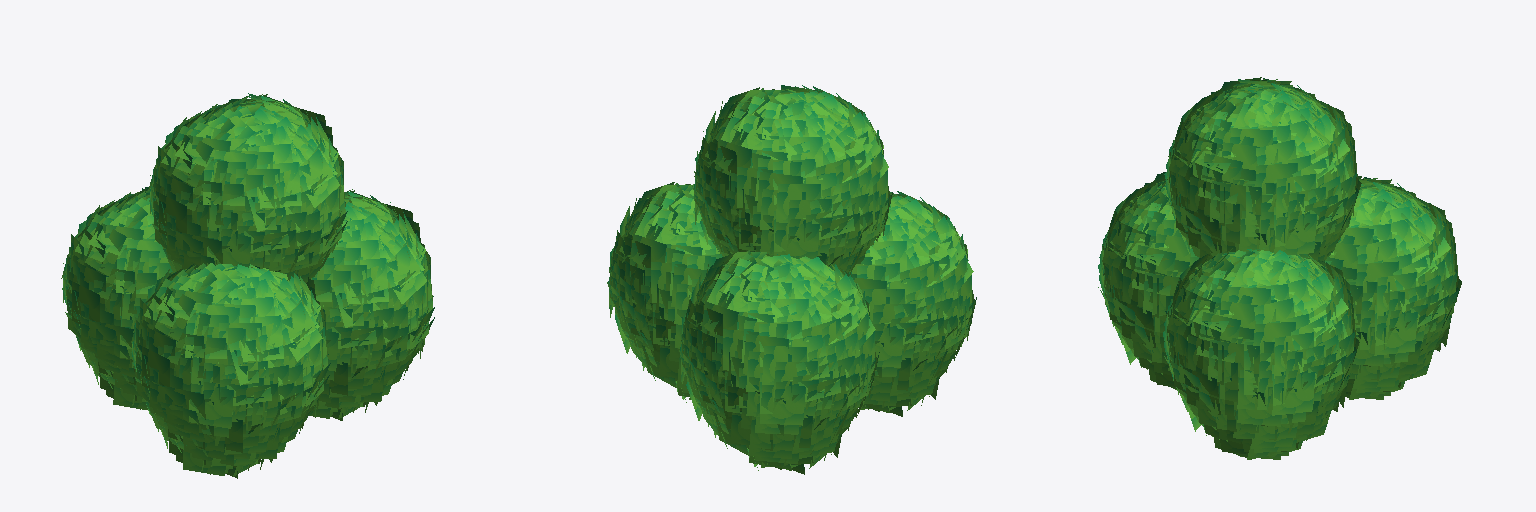
3 renders of one model, left to right at view 1: azimuth 30°, elevation 25°; view 2: azimuth 150°, elevation 25°; view 3: azimuth 270°, elevation 25°, orthographic.
Parts seen in each view (by area): view 1: Baumkrone03_Mesh.006, Baumkrone00_Mesh.003, Baumkrone01_Mesh.004, Baumkrone02_Mesh.005; view 2: Baumkrone02_Mesh.005, Baumkrone00_Mesh.003, Baumkrone03_Mesh.006, Baumkrone01_Mesh.004; view 3: Baumkrone01_Mesh.004, Baumkrone00_Mesh.003, Baumkrone02_Mesh.005, Baumkrone03_Mesh.006.
Part boxes in pixels (bbox=[...]): Baumkrone03_Mesh.006: bbox=[131, 263, 330, 478]; Baumkrone00_Mesh.003: bbox=[148, 93, 347, 282]; Baumkrone01_Mesh.004: bbox=[309, 189, 434, 420]; Baumkrone02_Mesh.005: bbox=[61, 187, 172, 409]; Baumkrone02_Mesh.005: bbox=[678, 250, 879, 474]; Baumkrone00_Mesh.003: bbox=[692, 85, 892, 273]; Baumkrone03_Mesh.006: bbox=[849, 191, 976, 416]; Baumkrone01_Mesh.004: bbox=[607, 182, 722, 402]; Baumkrone01_Mesh.004: bbox=[1163, 248, 1359, 459]; Baumkrone00_Mesh.003: bbox=[1164, 77, 1361, 264]; Baumkrone02_Mesh.005: bbox=[1325, 176, 1461, 399]; Baumkrone03_Mesh.006: bbox=[1098, 172, 1198, 389].
Bounding box in the file's own units: 2.49 × 2.44 × 2.5.
Materials: 1 (1 with a texture image).